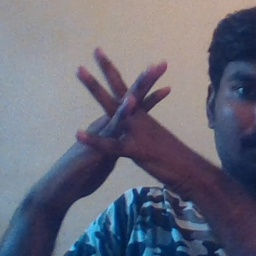W: (60, 38, 180, 179)
